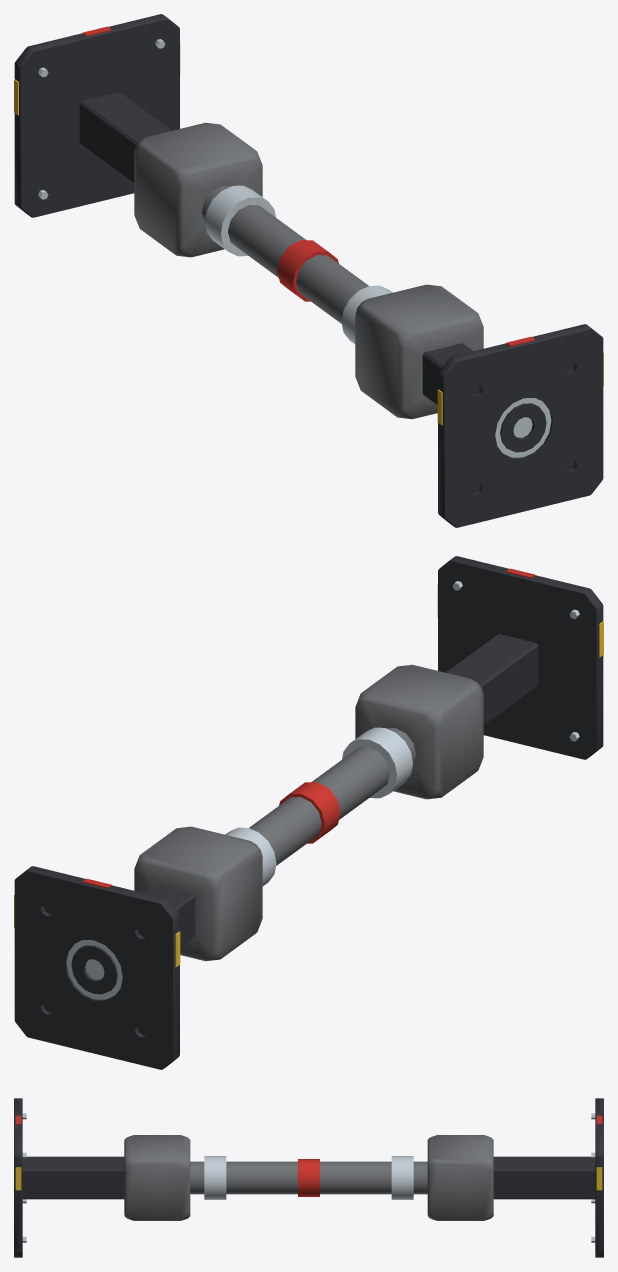
File: R4C_ROD_SHORT.glb
3 views of the same model, one above another, from view 1: azimuth 30°, elevation 25°; view 2: azimuth 150°, elevation 25°; view 3: azimuth 270°, elevation 25° (orthographic). The views are drawn at different scales.
Parts seen in each view (by area): view 1: R4C_ROD_SHORT; view 2: R4C_ROD_SHORT; view 3: R4C_ROD_SHORT.
Part boxes in pixels (left/top/right/bottom): R4C_ROD_SHORT: left=14, top=14, right=603, bottom=527; R4C_ROD_SHORT: left=14, top=556, right=603, bottom=1069; R4C_ROD_SHORT: left=14, top=1098, right=603, bottom=1257.
Bounding box in the file's own units: 0.2332 × 0.2316 × 1.07.
